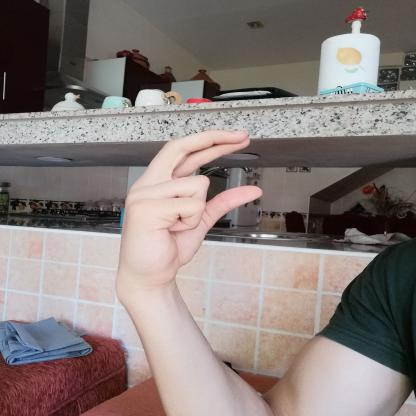DHELL: (106, 123, 271, 289)
